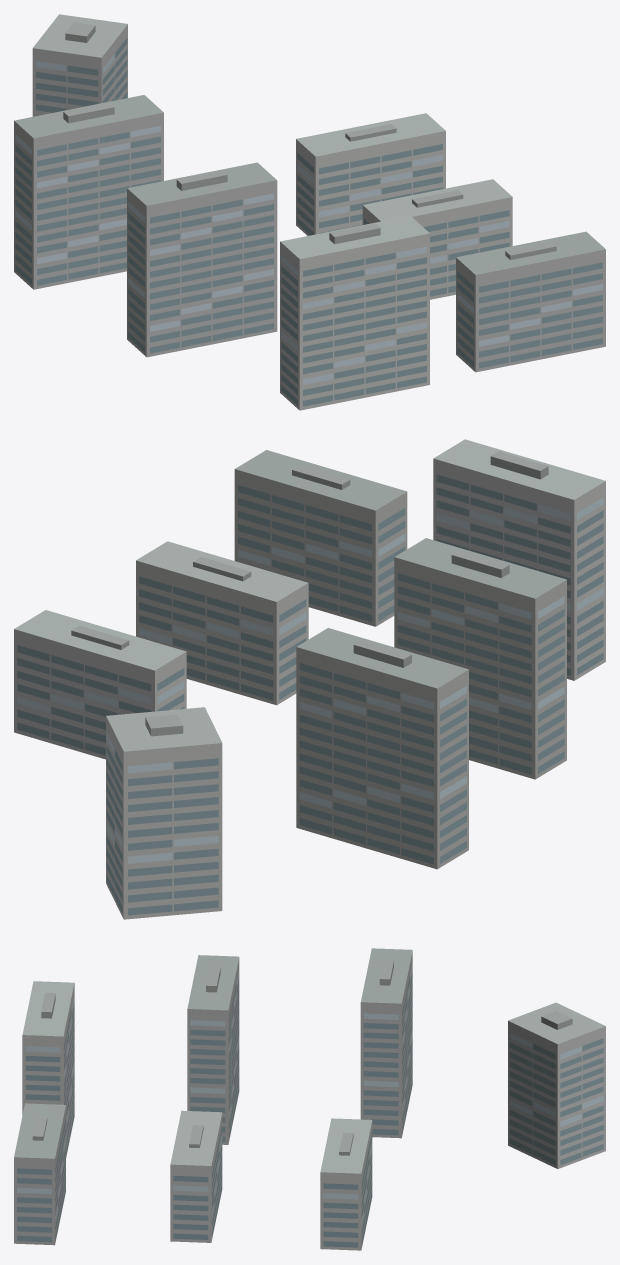
File: apt-a13519003.glb
The picture shows the model from 3 angles, top to bottom: view 1: azimuth 30°, elevation 25°; view 2: azimuth 150°, elevation 25°; view 3: azimuth 270°, elevation 25°; orthographic projection. The views are drawn at different scales.
Visible parts, largest first — view 1: apt-a13519003; view 2: apt-a13519003; view 3: apt-a13519003.
Boxes of the visible parts, x1=… form: apt-a13519003: x1=14, y1=14, x2=605, y2=410; apt-a13519003: x1=14, y1=439, x2=605, y2=919; apt-a13519003: x1=14, y1=948, x2=605, y2=1250.
Size of the model in its own units: 107 by 42 by 160.
